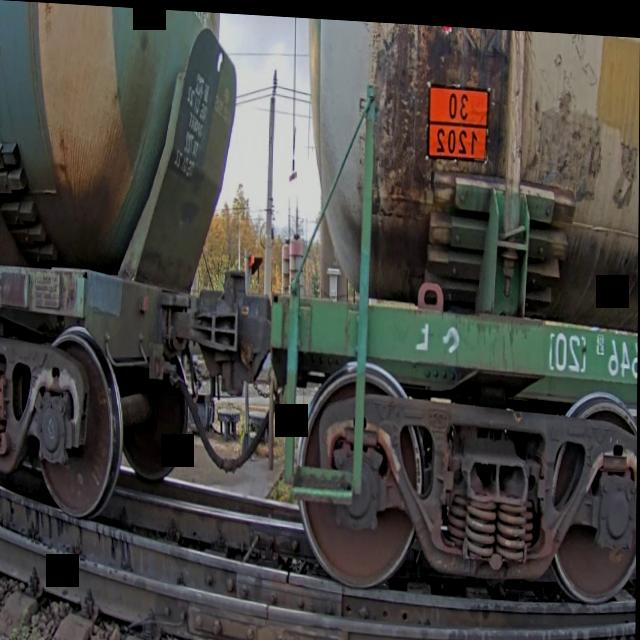tank: (288, 14, 640, 620), (0, 0, 246, 555)
